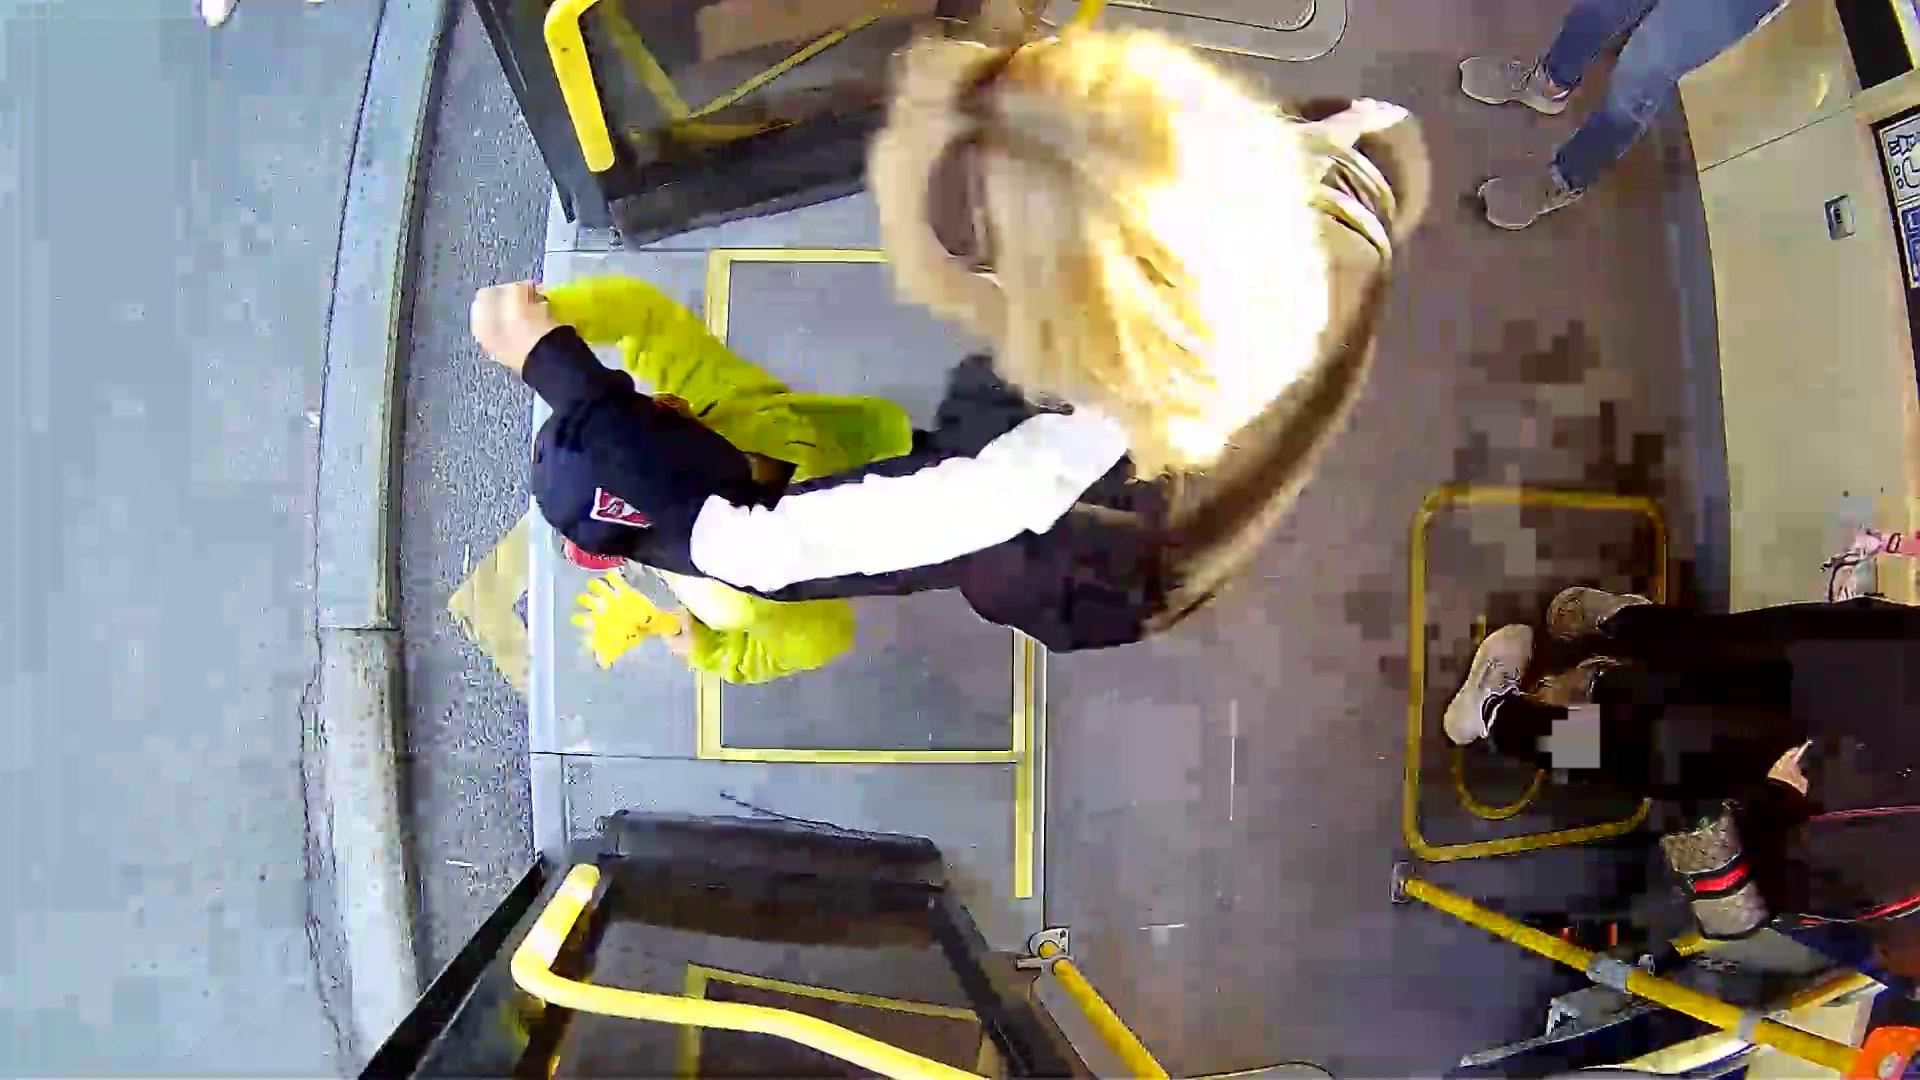person: (480, 32, 1593, 688)
